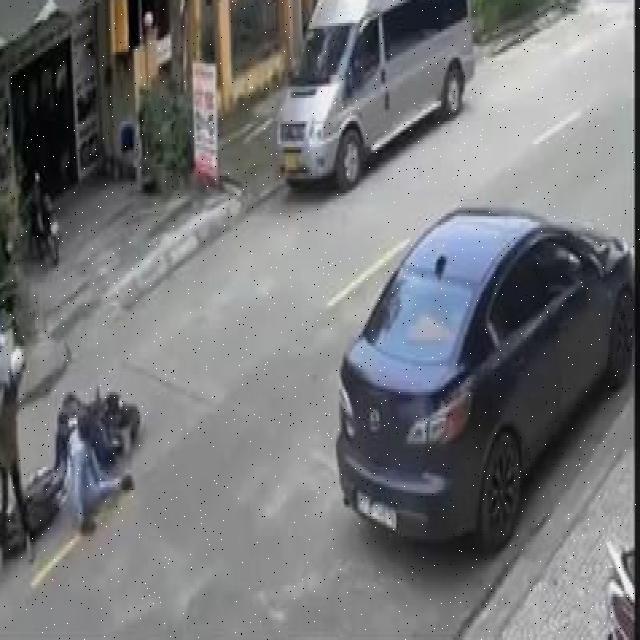accident: (0, 337, 146, 602)
